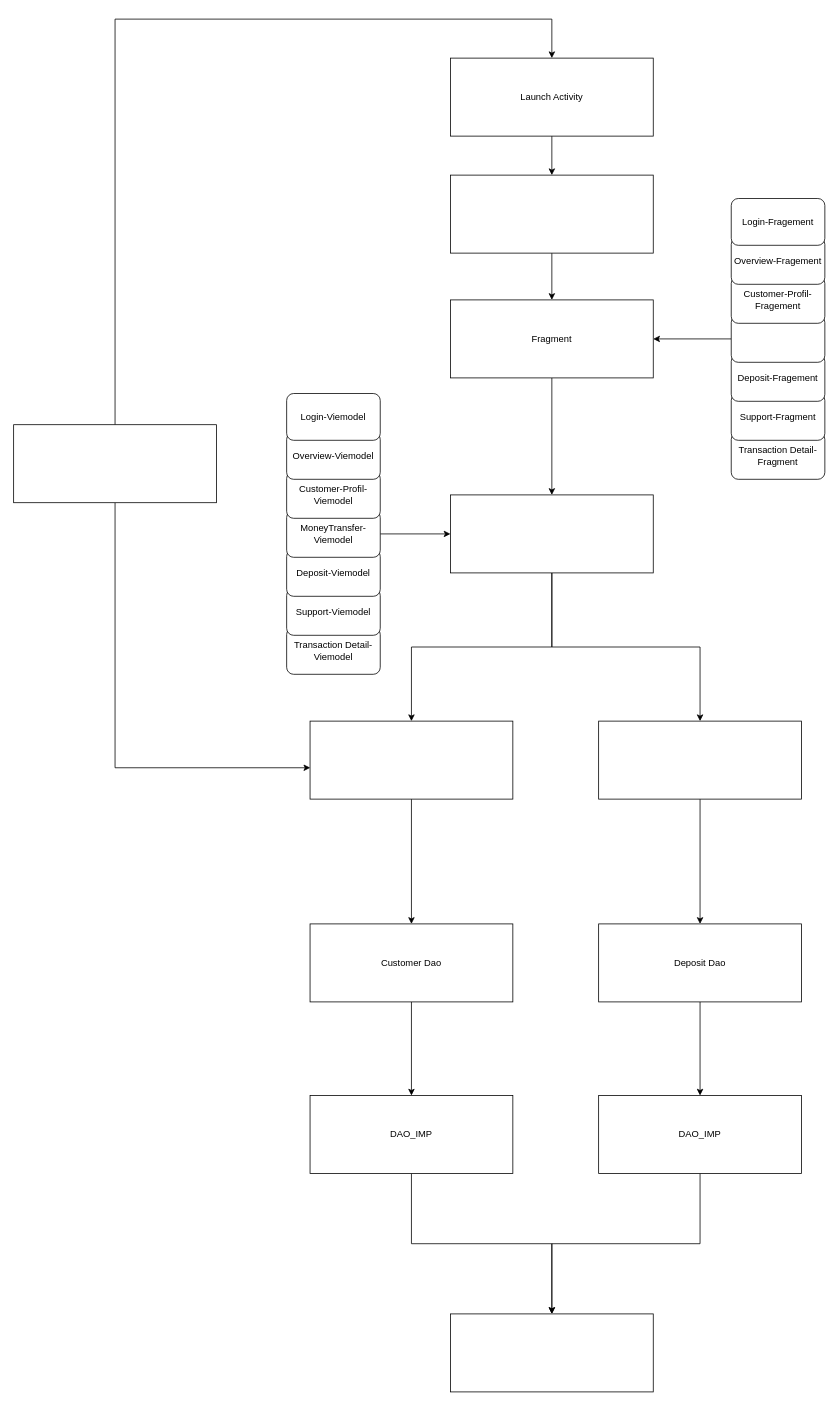
Image size: 838x1406. Some labels were removed from this diagram. Here are the shapes that lost their labels. From the top down, the box of each, then its label:
(450, 174, 653, 253): Main Activity
(730, 315, 825, 362): MoneyTransfer-Fragement
(13, 424, 216, 503): AndroidManifest + MyApplication Class
(450, 494, 653, 573): ViewModel
(309, 720, 513, 799): Customer Repositoy
(598, 720, 801, 799): Deposit Repository
(450, 1313, 653, 1392): Database
